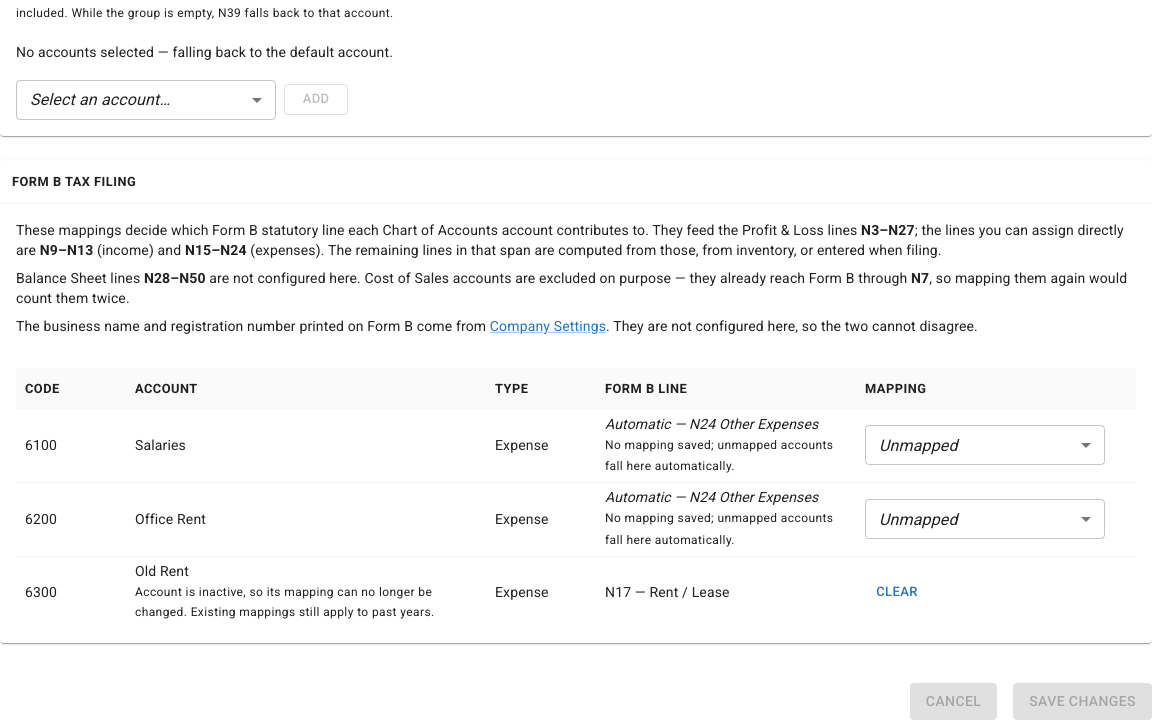
Test: AccountingSettingsPage — page-level save › clears dirty state and reports success when every request succeeds
(page scrolled)
Step 1. Click the dropdown labelled "Unmapped" in the row of "6100" → (918, 445), box [879,436,958,455]
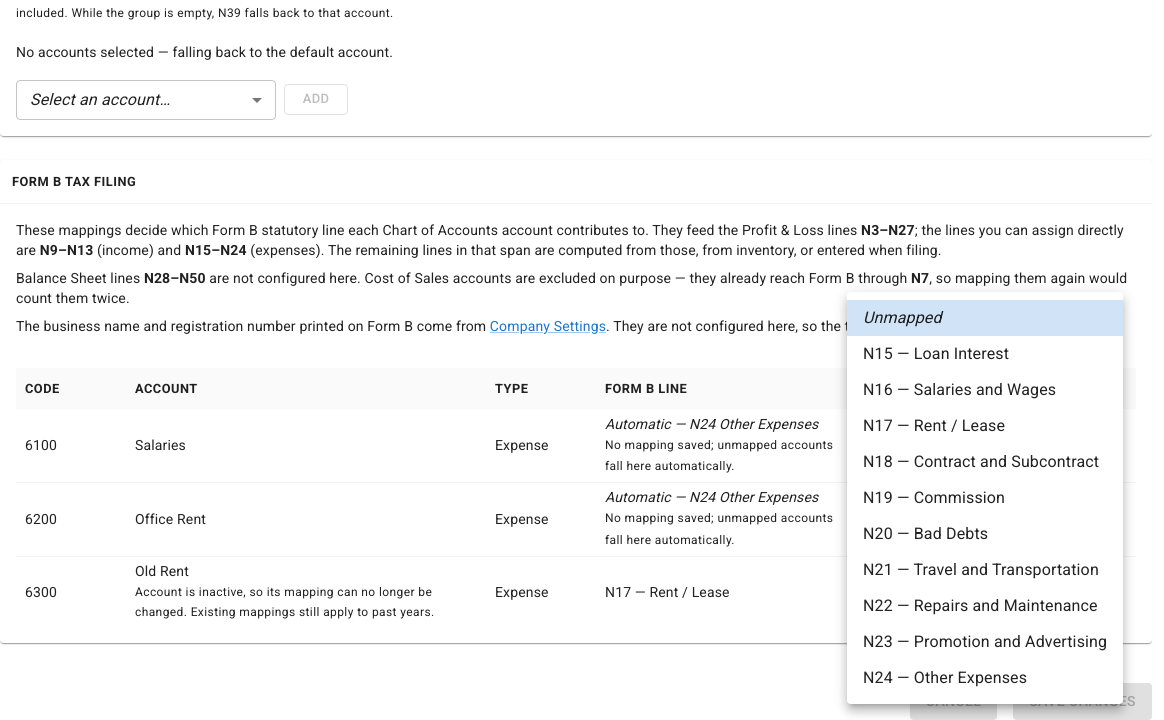
Step 2. Click the option "N16 — Salaries and Wages" → (960, 390), box [863,380,1056,399]
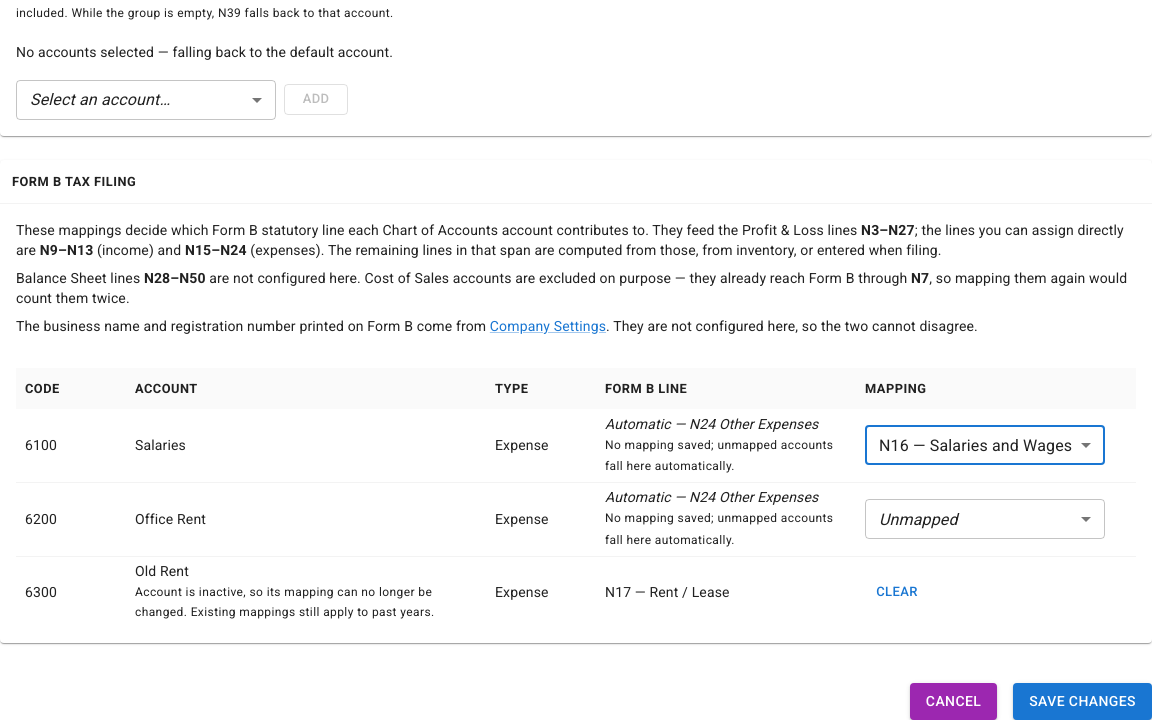
Step 3. Click the button "Save Changes" → (1083, 702), box [1013,684,1152,719]
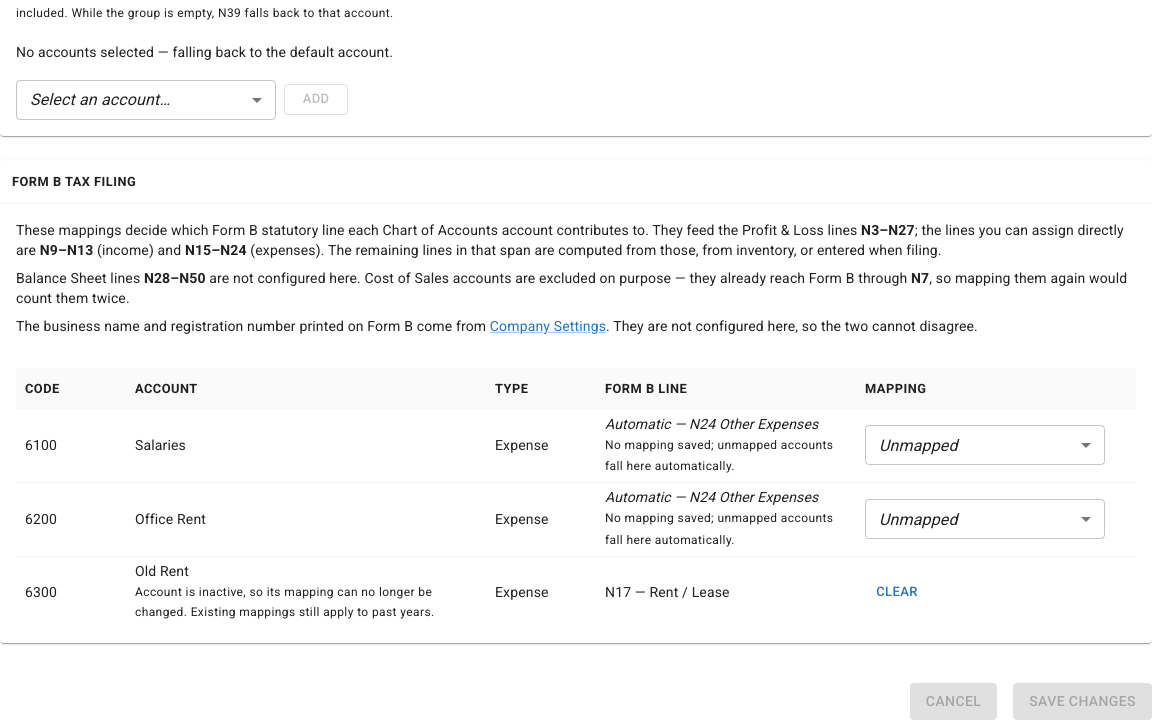
expect the button "Save Changes" is disabled: met, box [1013,684,1152,719]
expect the button "Cancel" is disabled: met, box [910,684,997,719]
